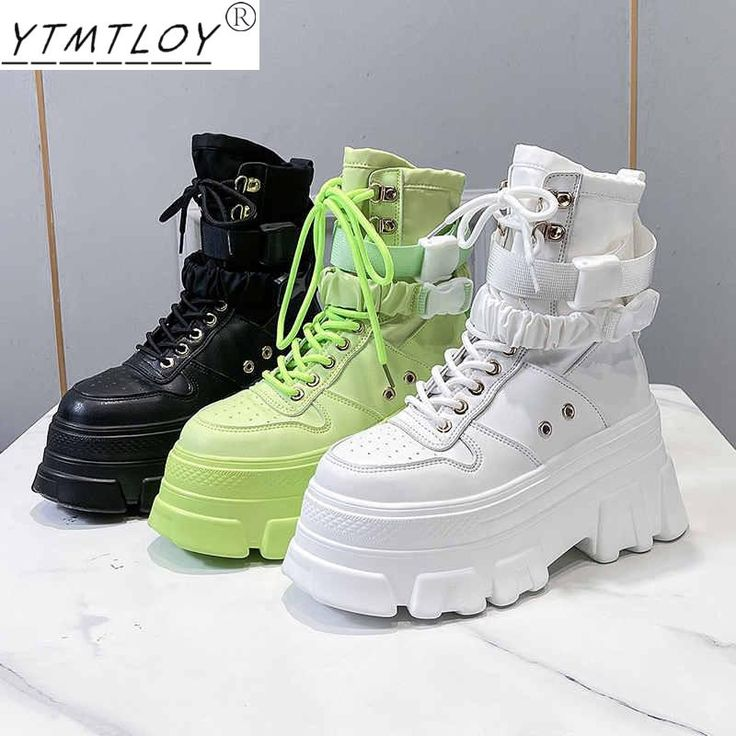cuero: (55, 133, 659, 518)
